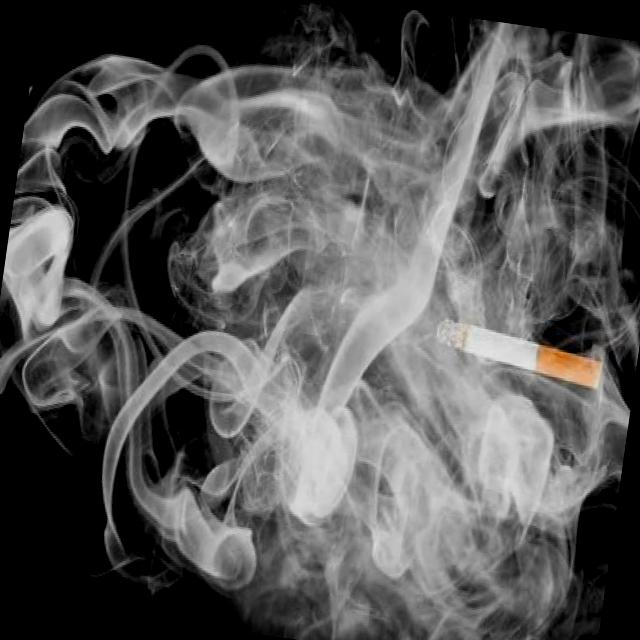smoke: (432, 309, 614, 398)
